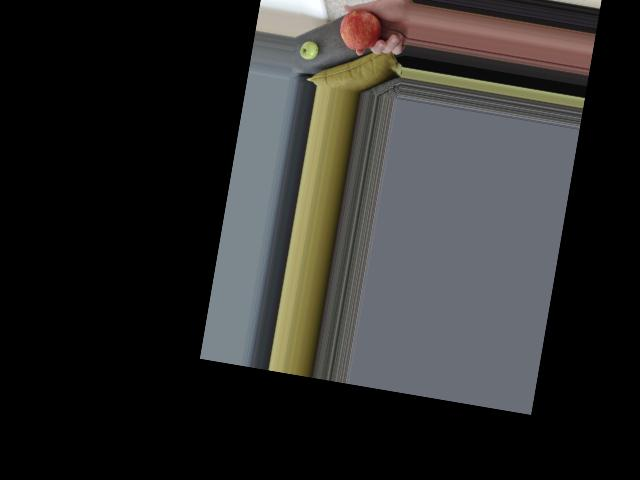apple: (296, 39, 324, 66)
